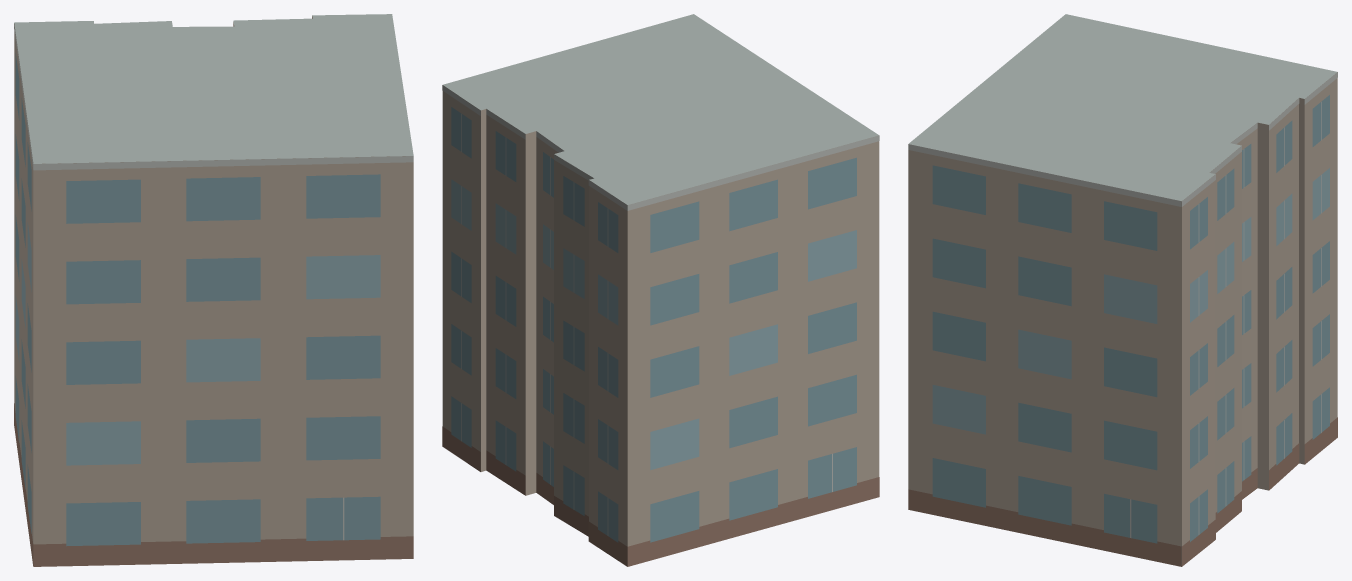
Rendered from survey-upis-32891606.glb.
3 views of the same model, side by side, from view 1: azimuth 30°, elevation 25°; view 2: azimuth 150°, elevation 25°; view 3: azimuth 270°, elevation 25° (orthographic). The views are drawn at different scales.
Visible parts, largest first — view 1: survey-upis-32891606.tmp; view 2: survey-upis-32891606.tmp; view 3: survey-upis-32891606.tmp.
Part boxes in pixels (x1,y1,x2,y2): survey-upis-32891606.tmp: (14, 14, 413, 566); survey-upis-32891606.tmp: (442, 14, 879, 566); survey-upis-32891606.tmp: (908, 14, 1337, 566).
Bounding box in the file's own units: 16.75 × 15.25 × 16.24.
